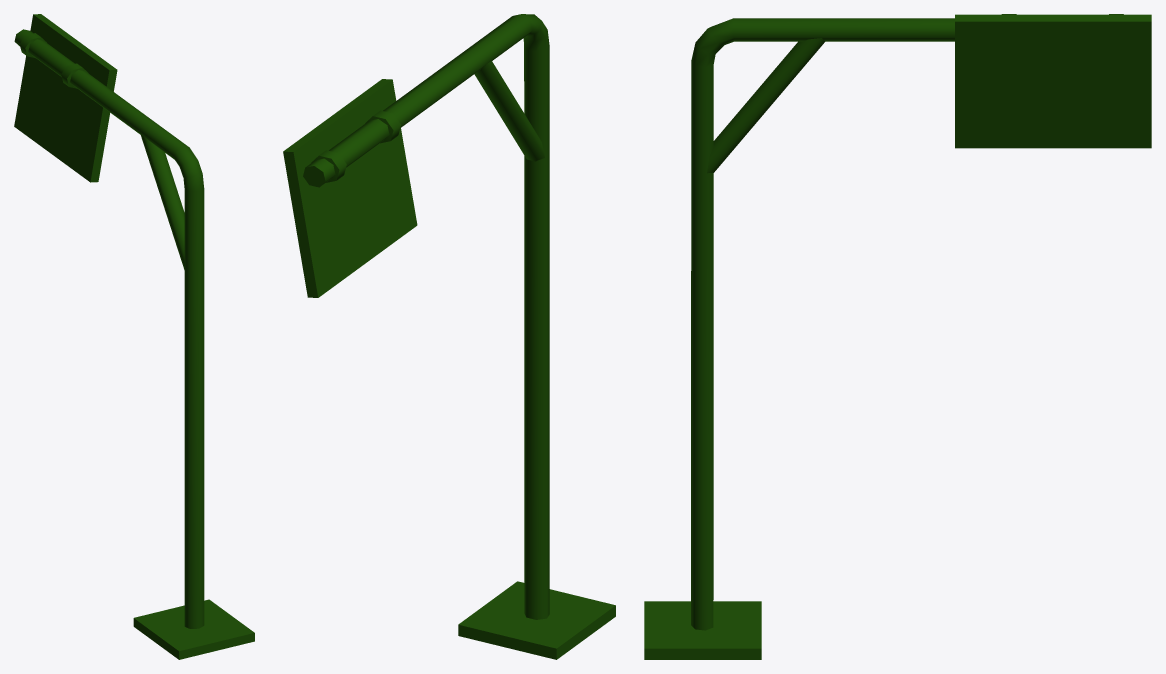
Rendered from T2_Lights03.fbx.
The picture shows the model from 3 angles, left to right: view 1: azimuth 30°, elevation 25°; view 2: azimuth 150°, elevation 25°; view 3: azimuth 270°, elevation 25°; orthographic projection. The views are drawn at different scales.
Parts seen in each view (by area): view 1: T2_Lights03; view 2: T2_Lights03; view 3: T2_Lights03, T2_Lights03_L1.
Part boxes in pixels (x1,y1,x2,y2): T2_Lights03: (14,14,254,659); T2_Lights03: (283,14,615,659); T2_Lights03: (644,14,1151,659); T2_Lights03_L1: (980,42,1125,128).
Bounding box in the file's own units: 0.2991 × 1.86 × 1.35.
